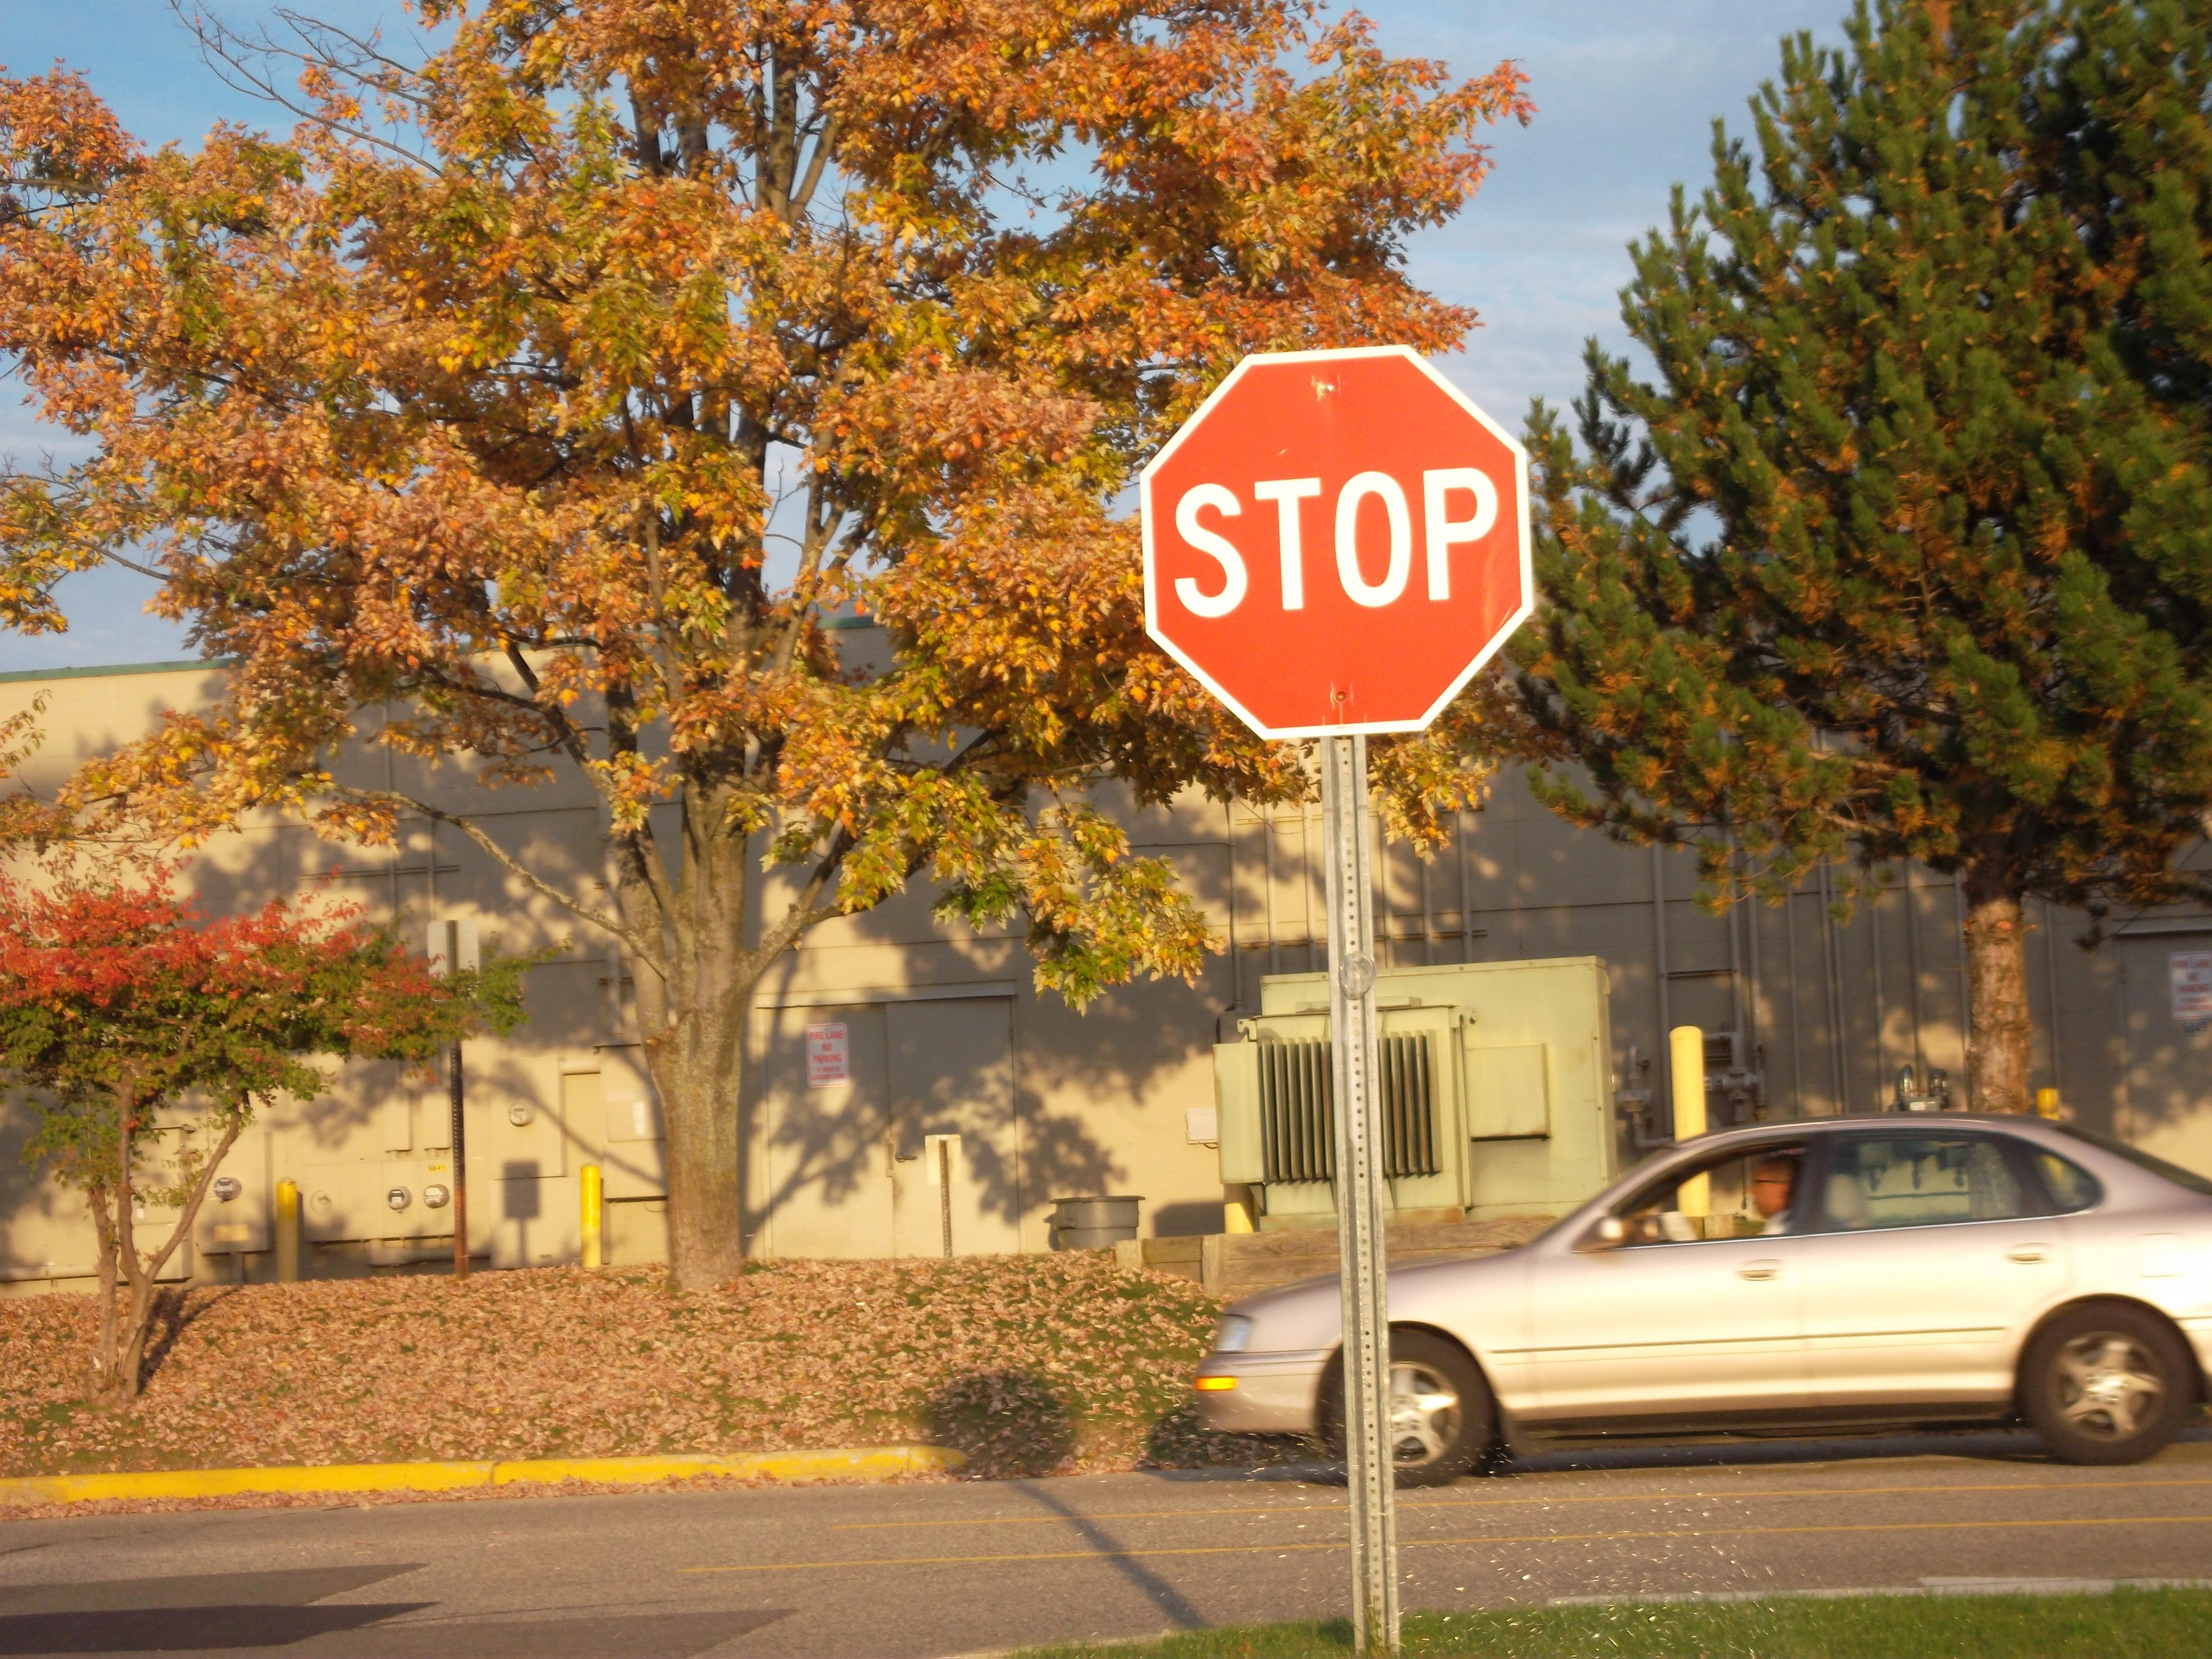stop: (1139, 343, 1543, 744)
